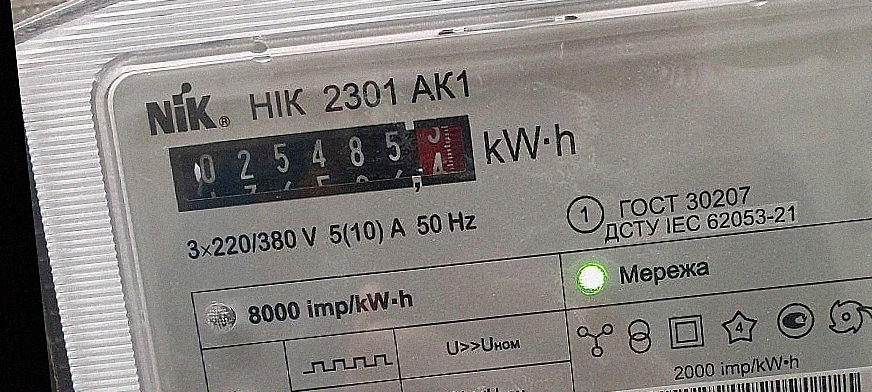0: (195, 149, 219, 186)
2: (234, 145, 257, 182)
4: (306, 135, 330, 171), (427, 148, 449, 178)
5: (380, 127, 405, 166), (269, 139, 293, 175)
8: (345, 131, 369, 170)
screen: (158, 106, 487, 225)
